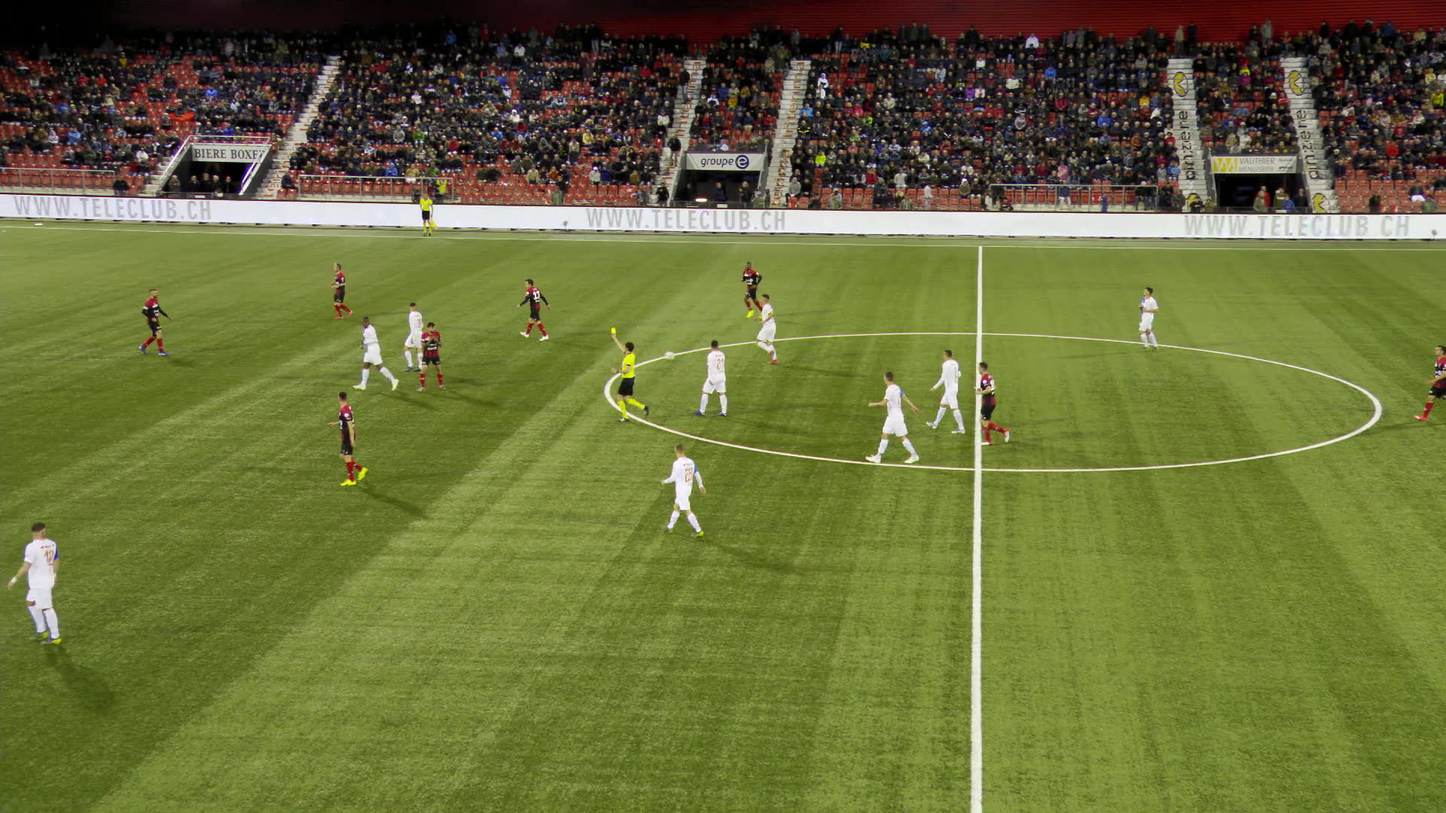ball: (663, 352, 671, 359)
player: (14, 522, 73, 644), (868, 368, 918, 464), (660, 440, 703, 537), (331, 391, 373, 486), (974, 358, 1008, 446), (932, 348, 966, 435), (358, 318, 396, 393), (754, 293, 791, 364), (695, 339, 729, 416), (1133, 287, 1167, 349), (139, 286, 167, 356), (1420, 343, 1445, 420), (518, 277, 548, 341), (417, 321, 444, 391), (397, 302, 423, 370), (327, 260, 357, 318), (740, 261, 764, 317)
referee: (609, 329, 650, 422), (418, 194, 435, 236)
